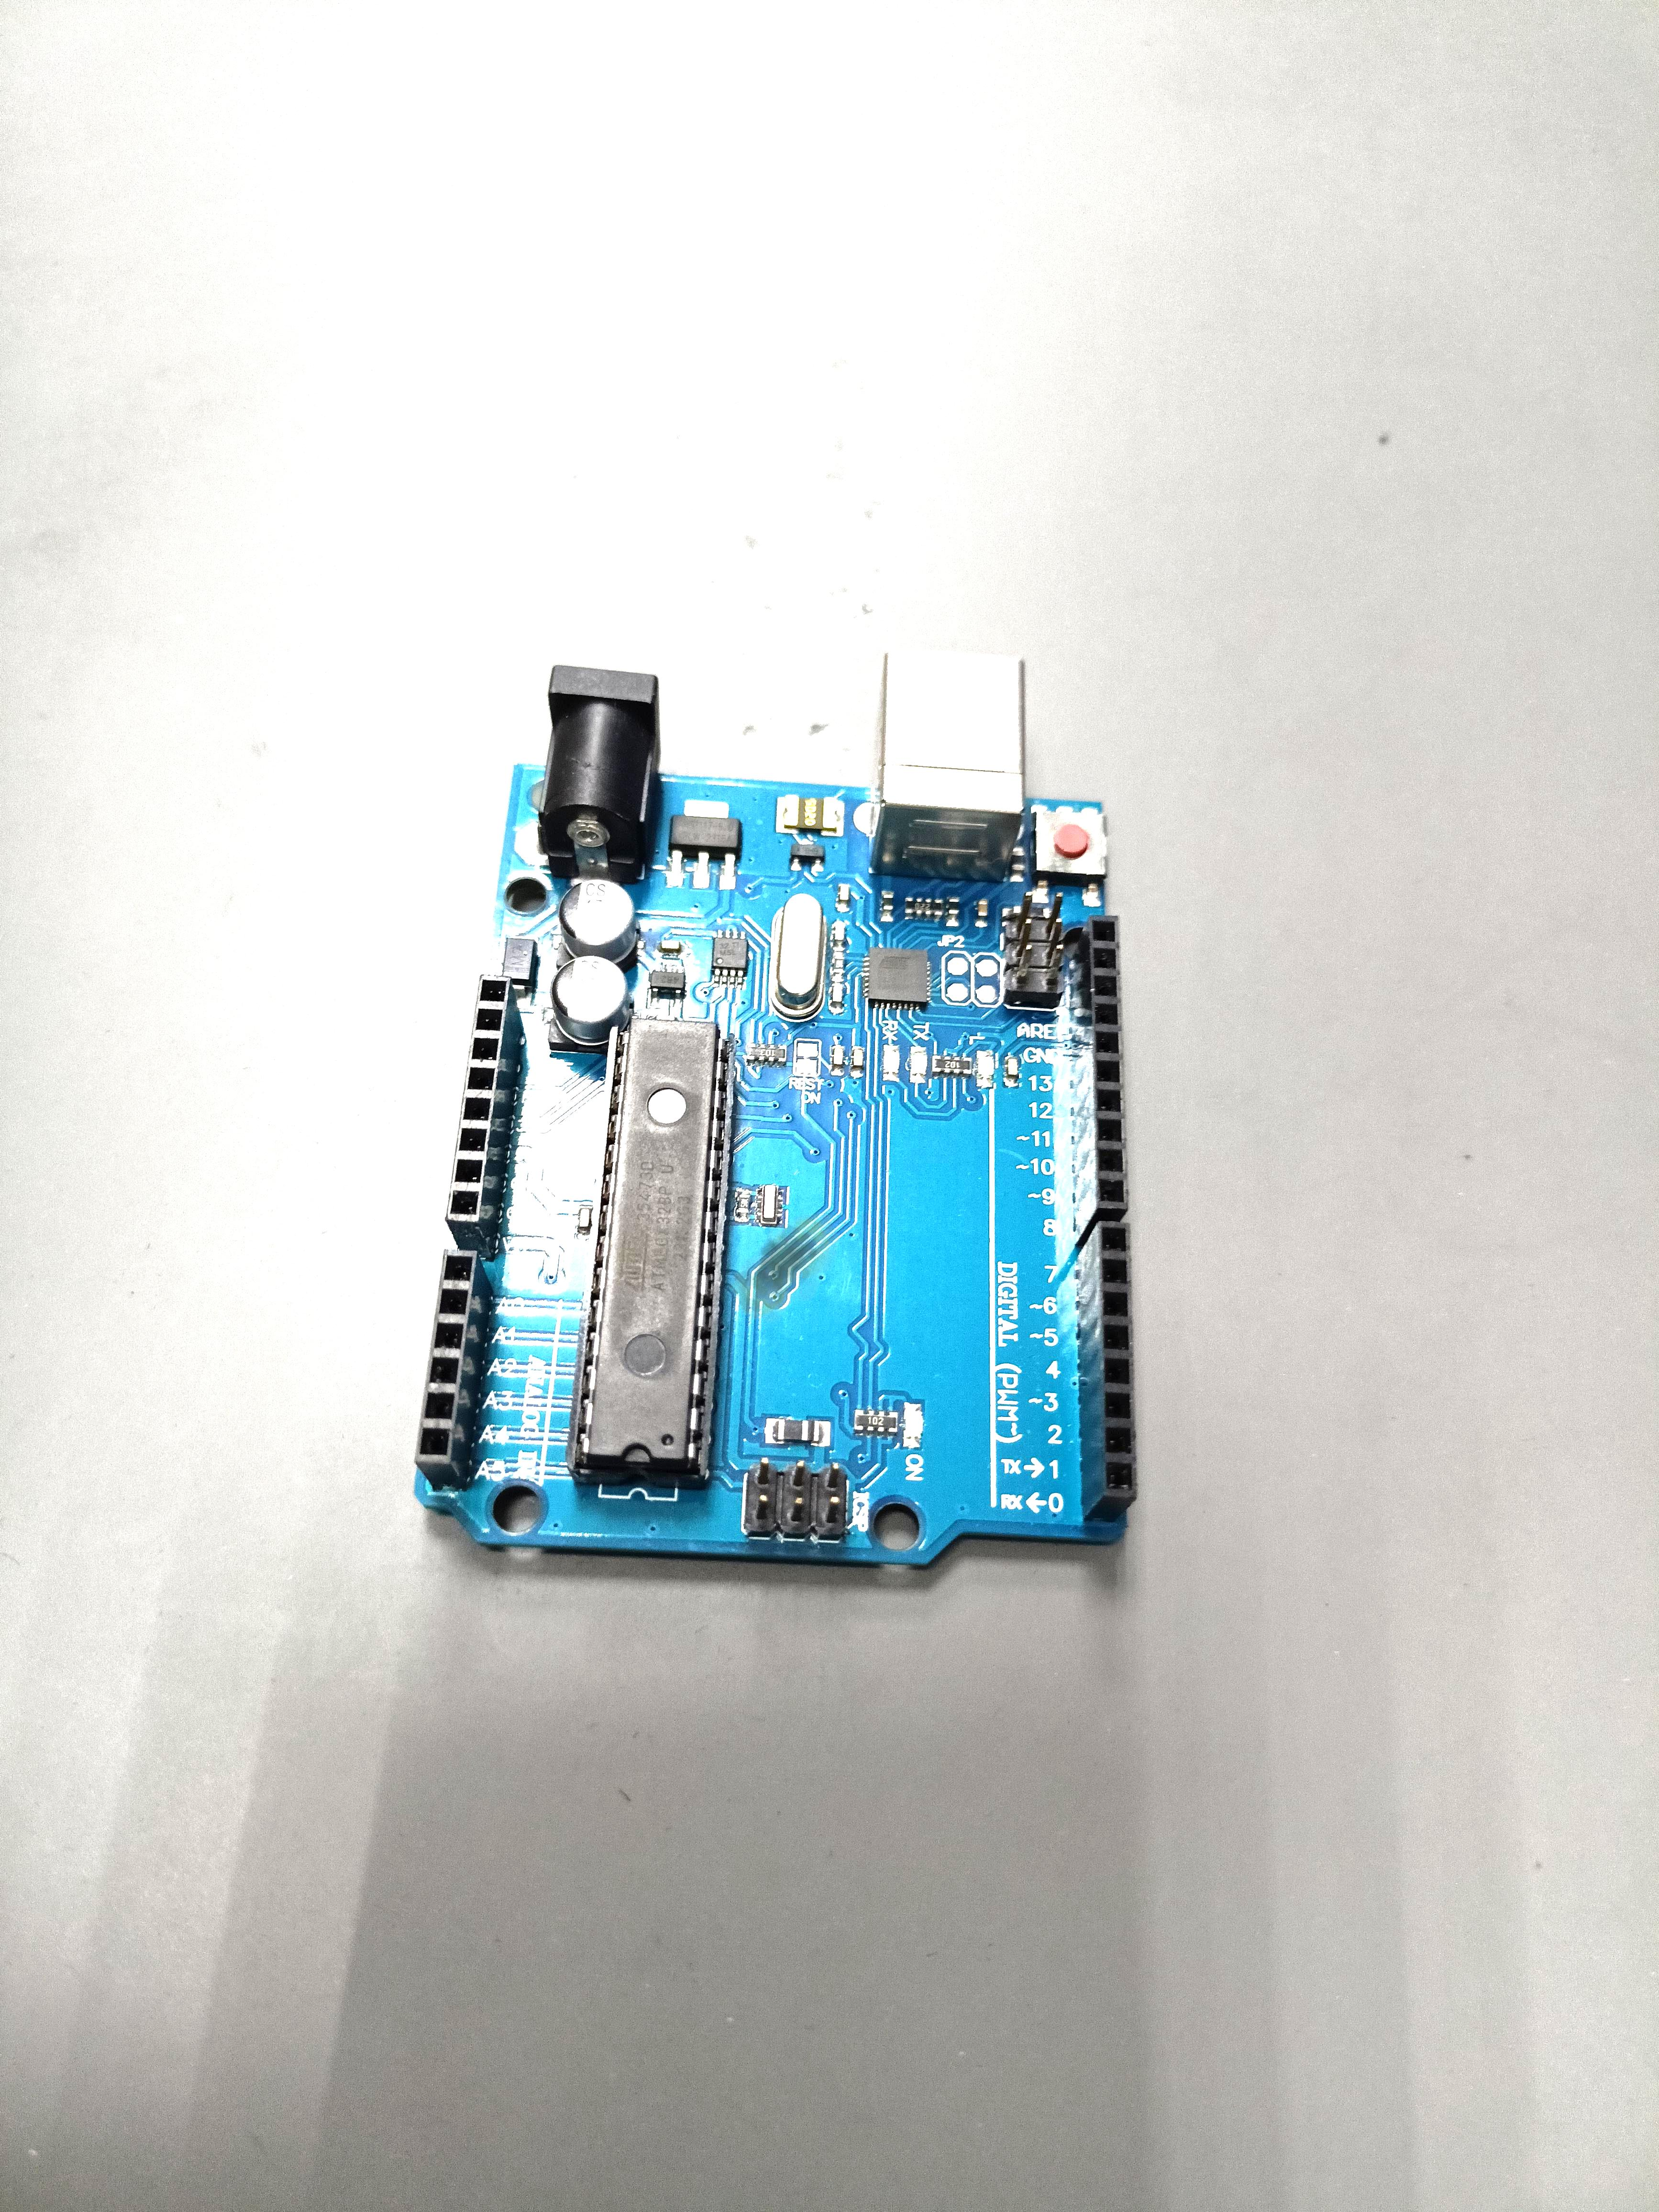ATmega328 chip: (566, 1017, 737, 1491)
Arduino board: (413, 648, 1138, 1564)
Overheat: (734, 1217, 833, 1322)
USB: (870, 648, 1025, 881)
capacitor: (547, 956, 634, 1054), (556, 880, 641, 974)
pins: (444, 974, 525, 1258), (1068, 916, 1127, 1245), (415, 1249, 493, 1486), (1077, 1221, 1138, 1522)
resistor: (856, 1409, 897, 1435), (932, 1055, 972, 1076), (746, 1043, 786, 1064), (904, 897, 943, 918)
